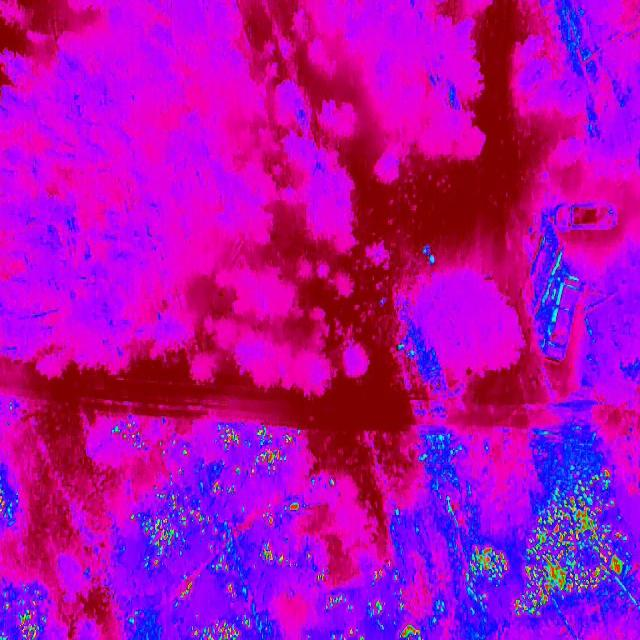fire: (135, 429, 322, 583), (517, 468, 635, 623), (322, 590, 422, 640), (456, 541, 512, 607), (182, 607, 260, 640), (0, 590, 50, 640)
